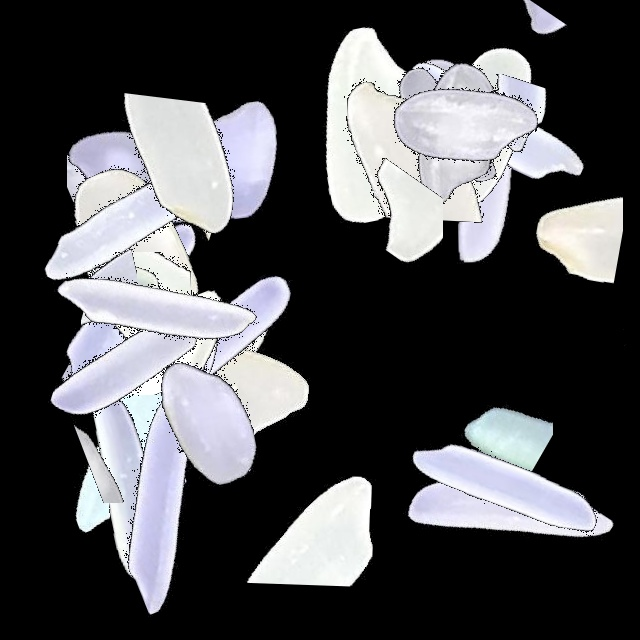Broken: (67, 44, 238, 294), (93, 57, 258, 307), (336, 11, 500, 261), (16, 317, 266, 474), (119, 287, 272, 537), (233, 383, 385, 633), (412, 90, 562, 340), (16, 260, 266, 395), (0, 252, 250, 384), (431, 293, 553, 543), (39, 123, 289, 241), (506, 100, 623, 350), (51, 293, 301, 409), (81, 203, 193, 453), (15, 395, 265, 503), (30, 155, 137, 405), (0, 290, 250, 389), (368, 74, 618, 173), (35, 301, 285, 399), (347, 99, 443, 349), (532, 203, 626, 453), (390, 0, 640, 93), (0, 408, 250, 492), (403, 4, 483, 254)
Full: (385, 389, 635, 639), (41, 202, 291, 452), (56, 283, 306, 533), (331, 0, 581, 250), (79, 263, 329, 513), (0, 124, 250, 374), (79, 221, 329, 471), (0, 183, 250, 433), (43, 60, 293, 310), (368, 0, 618, 250), (0, 309, 250, 559), (357, 0, 607, 250), (379, 361, 629, 611), (0, 45, 250, 295), (11, 137, 261, 387), (245, 0, 495, 250), (0, 357, 250, 607), (114, 37, 364, 287), (0, 105, 250, 355), (319, 0, 569, 250), (330, 6, 580, 256), (42, 375, 292, 625), (340, 0, 590, 250), (7, 231, 257, 481), (82, 298, 332, 548), (29, 178, 279, 428)
